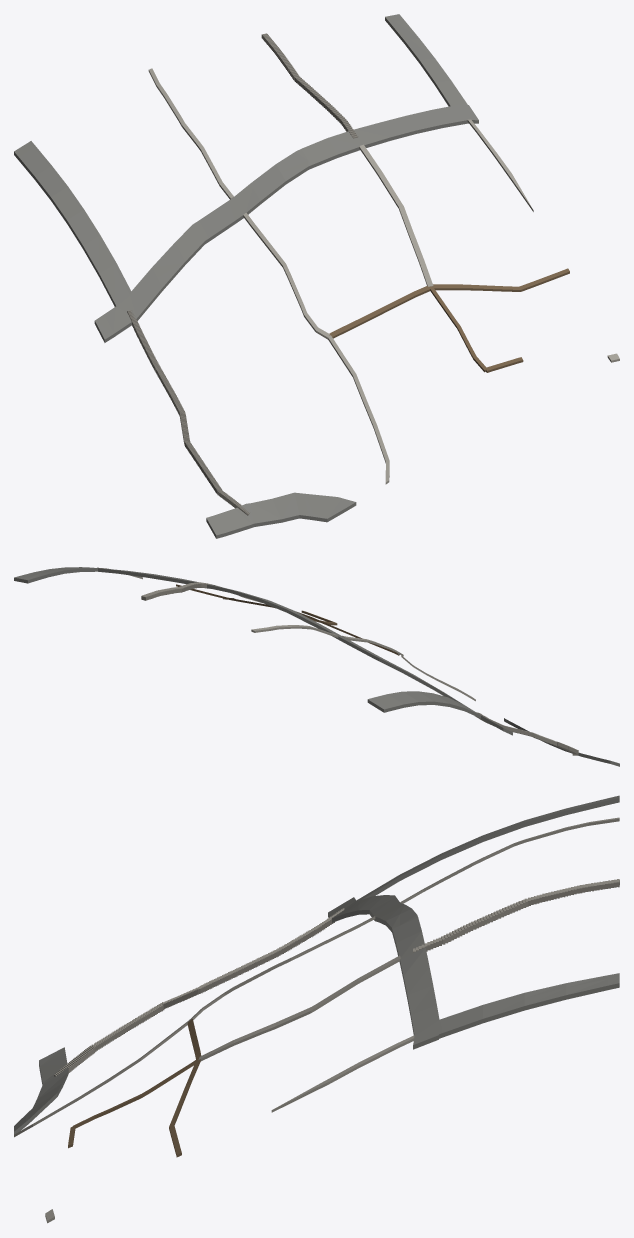
3 views of the same model, one above another, from view 1: azimuth 30°, elevation 25°; view 2: azimuth 150°, elevation 25°; view 3: azimuth 270°, elevation 25° (orthographic). The views are drawn at different scales.
Bounding box in the file's own units: 147 × 95.03 × 146.
